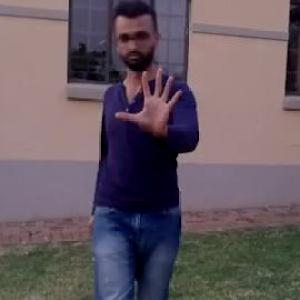follow_hand: (113, 62, 187, 140)
